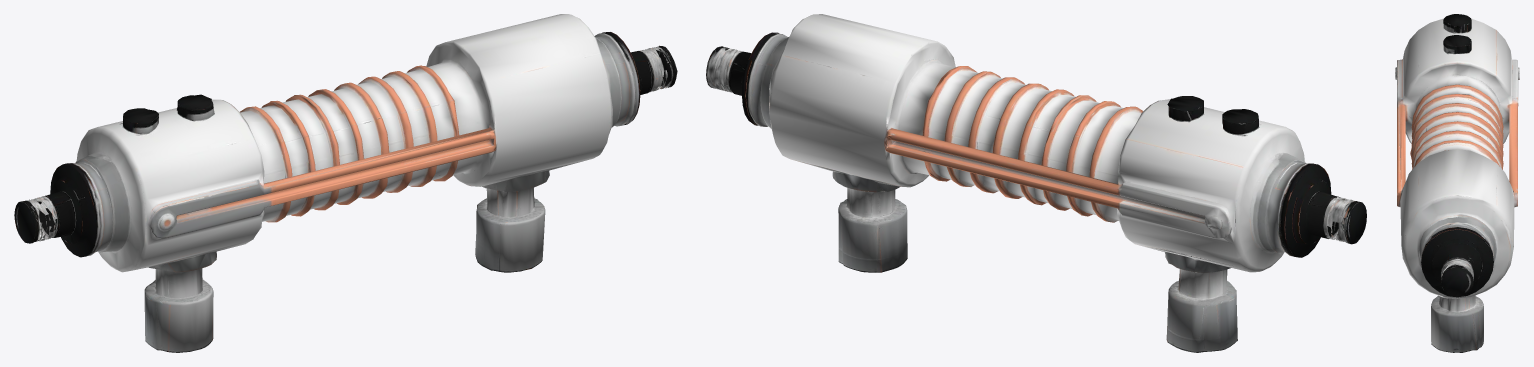
The model's file is rheostat.glb.
3 renders of one model, left to right at view 1: azimuth 30°, elevation 25°; view 2: azimuth 150°, elevation 25°; view 3: azimuth 270°, elevation 25°, orthographic. The views are drawn at different scales.
Size of the model in its own units: 0.9512 by 0.3291 by 0.2046.
Materials: 1 (1 with a texture image).
